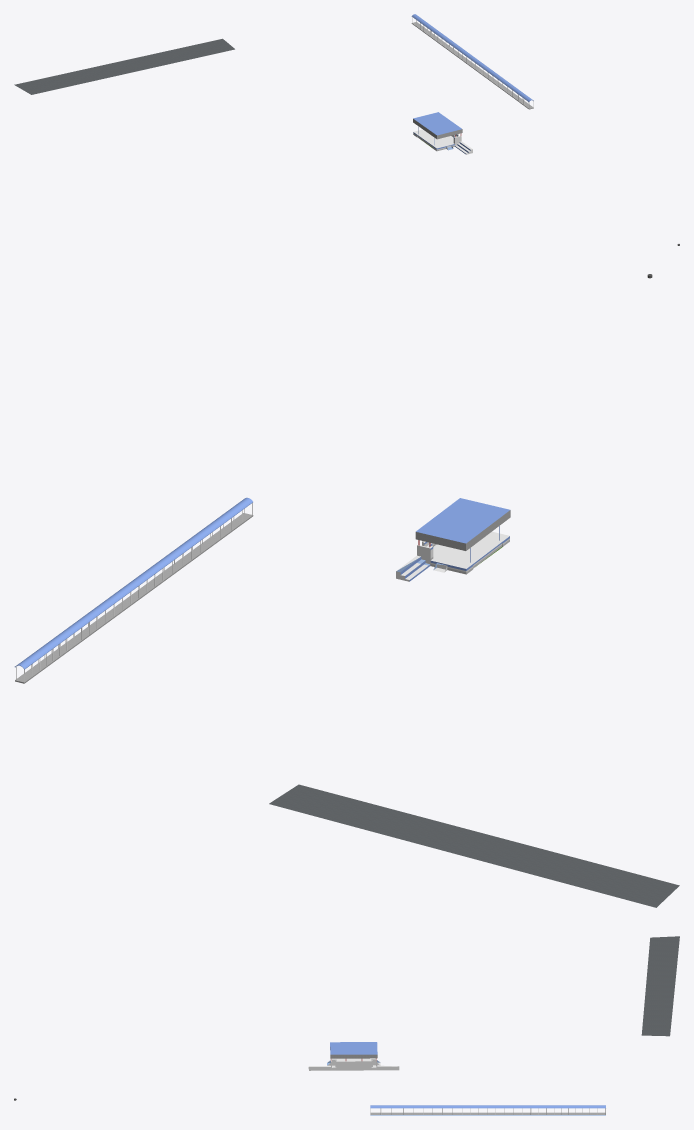
The model's file is Stage.glb.
The picture shows the model from 3 angles, top to bottom: view 1: azimuth 30°, elevation 25°; view 2: azimuth 150°, elevation 25°; view 3: azimuth 270°, elevation 25°; orthographic projection. The views are drawn at different scales.
Visible parts, largest first — view 1: Mesh_984.019, Mesh_984.018, Mesh_984.006; view 2: Mesh_984.019, Mesh_984.018, Mesh_984.006; view 3: Mesh_984.019, Mesh_984.006, Mesh_984.018.
Part boxes in pixels (<box>): Mesh_984.019: <box>14,38,234,94</box>; Mesh_984.018: <box>413,112,472,154</box>; Mesh_984.006: <box>411,14,533,109</box>; Mesh_984.019: <box>269,784,679,907</box>; Mesh_984.018: <box>396,498,510,581</box>; Mesh_984.006: <box>14,497,253,683</box>; Mesh_984.019: <box>641,936,679,1036</box>; Mesh_984.006: <box>370,1105,605,1115</box>; Mesh_984.018: <box>308,1042,399,1070</box>.
Bounding box in the file's own units: 131 × 5.5 × 206.
Materials: 17 (4 with a texture image).
